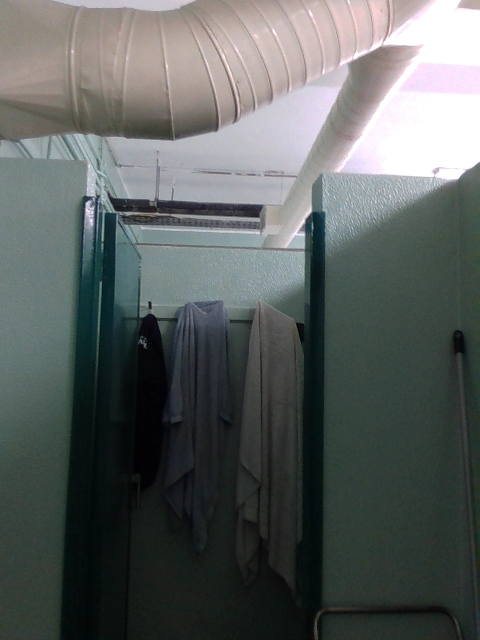open: (63, 201, 148, 639)
